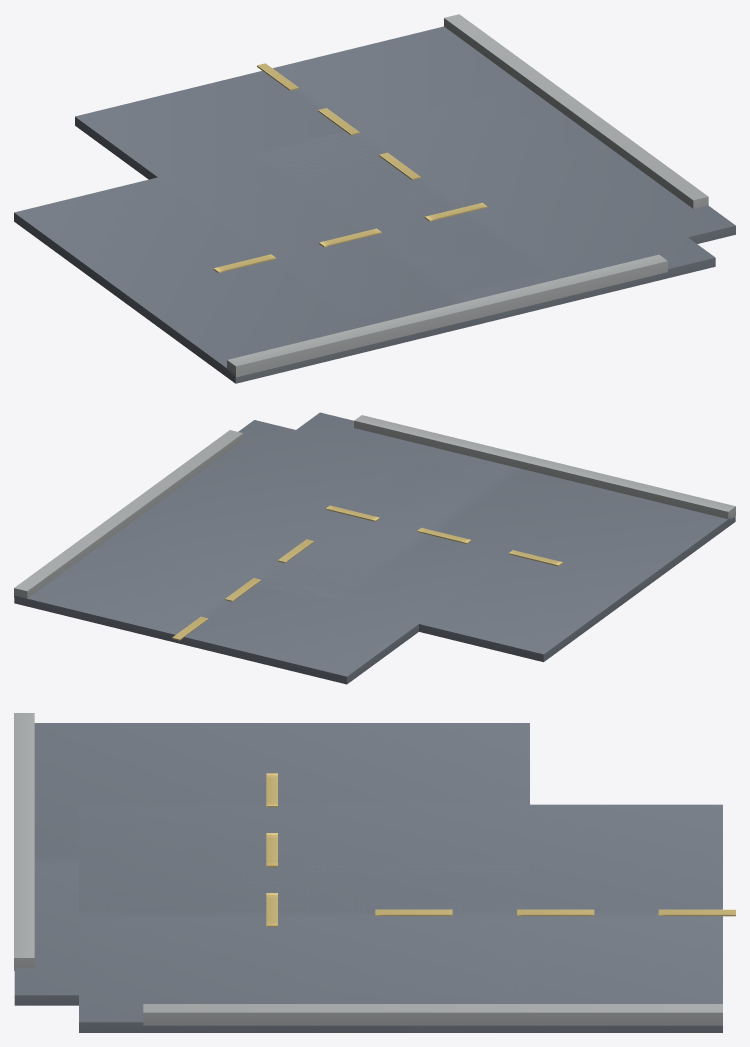
The model's file is road_corner.glb.
3 renders of one model, top to bottom at view 1: azimuth 30°, elevation 25°; view 2: azimuth 150°, elevation 25°; view 3: azimuth 270°, elevation 25°, orthographic. The views are drawn at different scales.
Visible parts, largest first — view 1: road_corner; view 2: road_corner; view 3: road_corner.
Boxes of the visible parts, x1,y1,x2,y2 form: road_corner: (14,14,735,383); road_corner: (14,412,735,684); road_corner: (14,713,735,1032).
Bounding box in the file's own units: 11.01 × 0.35 × 11.21.
Materials: 1 (1 with a texture image).
